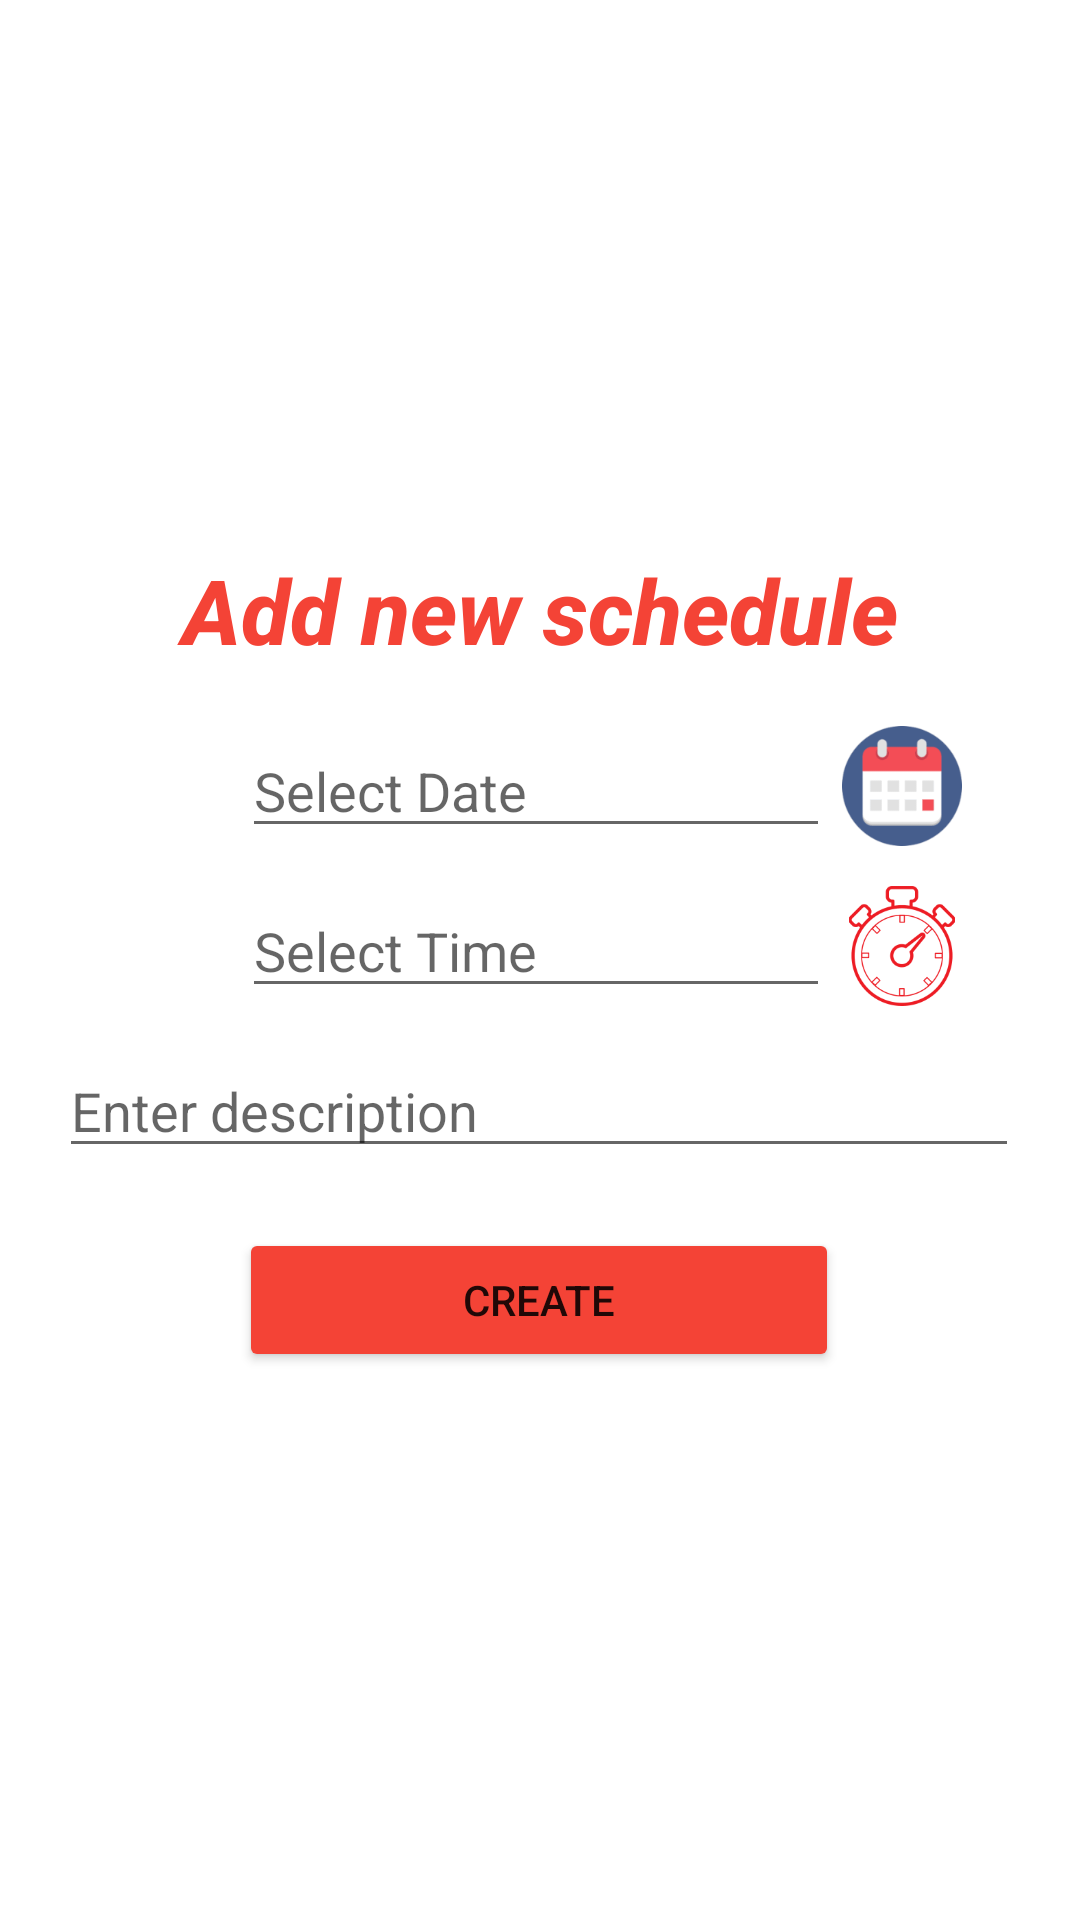

Screen size 1080×1920. Icon name, then its center in pixels as point (x, y):
calender: point (902, 786)
